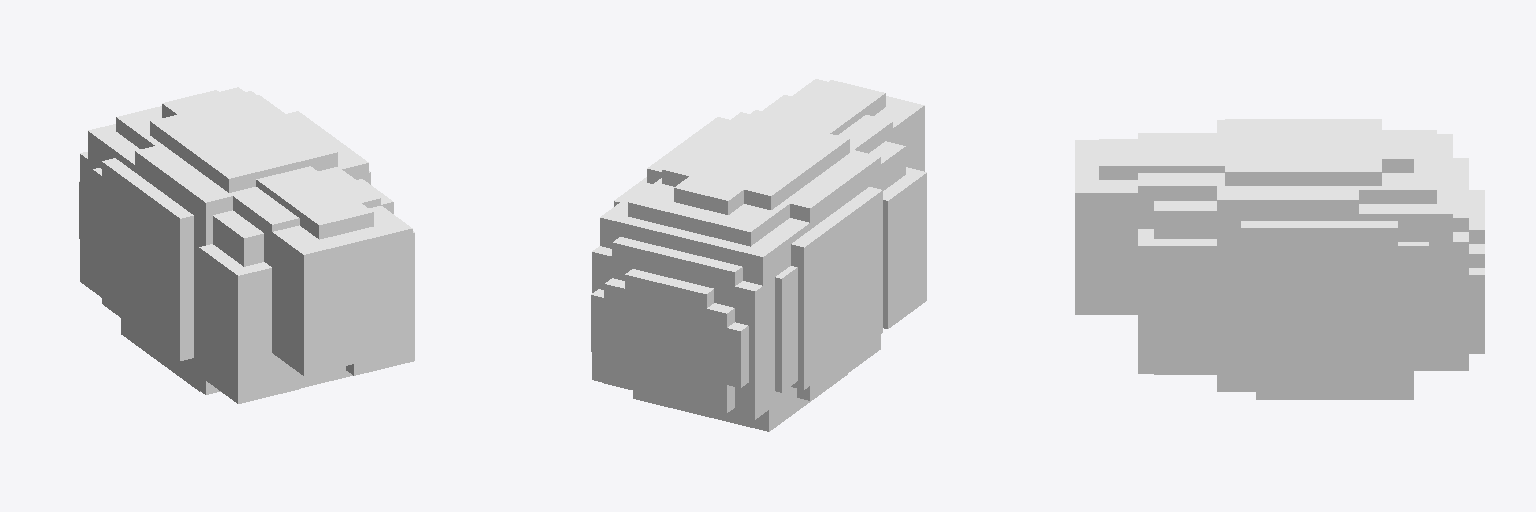
File: elephant_body.obj
3 renders of one model, left to right at view 1: azimuth 30°, elevation 25°; view 2: azimuth 150°, elevation 25°; view 3: azimuth 270°, elevation 25°, orthographic.
Visible parts, largest first — view 1: Element #20, Element #15, Element #40, Element #17, Element #14, Element #19, Element #4, Element #18, Element #7, Element #13, Element #16, Element #6 (+2 smaller); view 2: Element #15, Element #17, Element #36, Element #7, Element #40, Element #14, Element #6, Element #13, Element #11, Element #19, Element #12, Element #16 (+7 smaller); view 3: Element #15, Element #14, Element #2, Element #17, Element #20, Element #7, Element #19, Element #16, Element #13, Element #18, Element #4, Element #8 (+5 smaller).
Boxes of the visible parts, x1=… form: Element #20: x1=264, y1=206, x2=412, y2=375; Element #15: x1=102, y1=158, x2=370, y2=360; Element #40: x1=199, y1=244, x2=299, y2=403; Element #17: x1=150, y1=95, x2=337, y2=192; Element #14: x1=135, y1=111, x2=368, y2=394; Element #19: x1=256, y1=166, x2=373, y2=239; Element #4: x1=213, y1=179, x2=393, y2=388; Element #18: x1=233, y1=170, x2=380, y2=236; Element #7: x1=88, y1=91, x2=255, y2=297; Element #13: x1=116, y1=87, x2=250, y2=148; Element #16: x1=93, y1=168, x2=101, y2=289; Element #6: x1=80, y1=152, x2=87, y2=286; Element #15: x1=614, y1=177, x2=882, y2=389; Element #17: x1=662, y1=112, x2=849, y2=209; Element #36: x1=591, y1=289, x2=748, y2=387; Element #7: x1=600, y1=183, x2=809, y2=413; Element #40: x1=883, y1=167, x2=926, y2=328; Element #14: x1=647, y1=117, x2=880, y2=400; Element #6: x1=592, y1=246, x2=762, y2=419; Element #13: x1=628, y1=178, x2=789, y2=246; Element #11: x1=604, y1=355, x2=734, y2=412; Element #19: x1=776, y1=80, x2=885, y2=134; Element #12: x1=612, y1=237, x2=742, y2=285; Element #16: x1=775, y1=266, x2=797, y2=392; Element #15: x1=1241, y1=221, x2=1397, y2=369; Element #14: x1=1217, y1=120, x2=1358, y2=391; Element #2: x1=1138, y1=229, x2=1216, y2=373; Element #17: x1=1225, y1=119, x2=1381, y2=185; Element #20: x1=1075, y1=140, x2=1153, y2=314; Element #7: x1=1359, y1=134, x2=1452, y2=370; Element #19: x1=1099, y1=139, x2=1224, y2=179; Element #16: x1=1398, y1=242, x2=1428, y2=359; Element #13: x1=1359, y1=130, x2=1436, y2=203; Element #18: x1=1138, y1=133, x2=1216, y2=200; Element #4: x1=1154, y1=201, x2=1216, y2=374; Element #8: x1=1256, y1=371, x2=1413, y2=399.
Size of the model in its own units: 14 by 15.5 by 26.